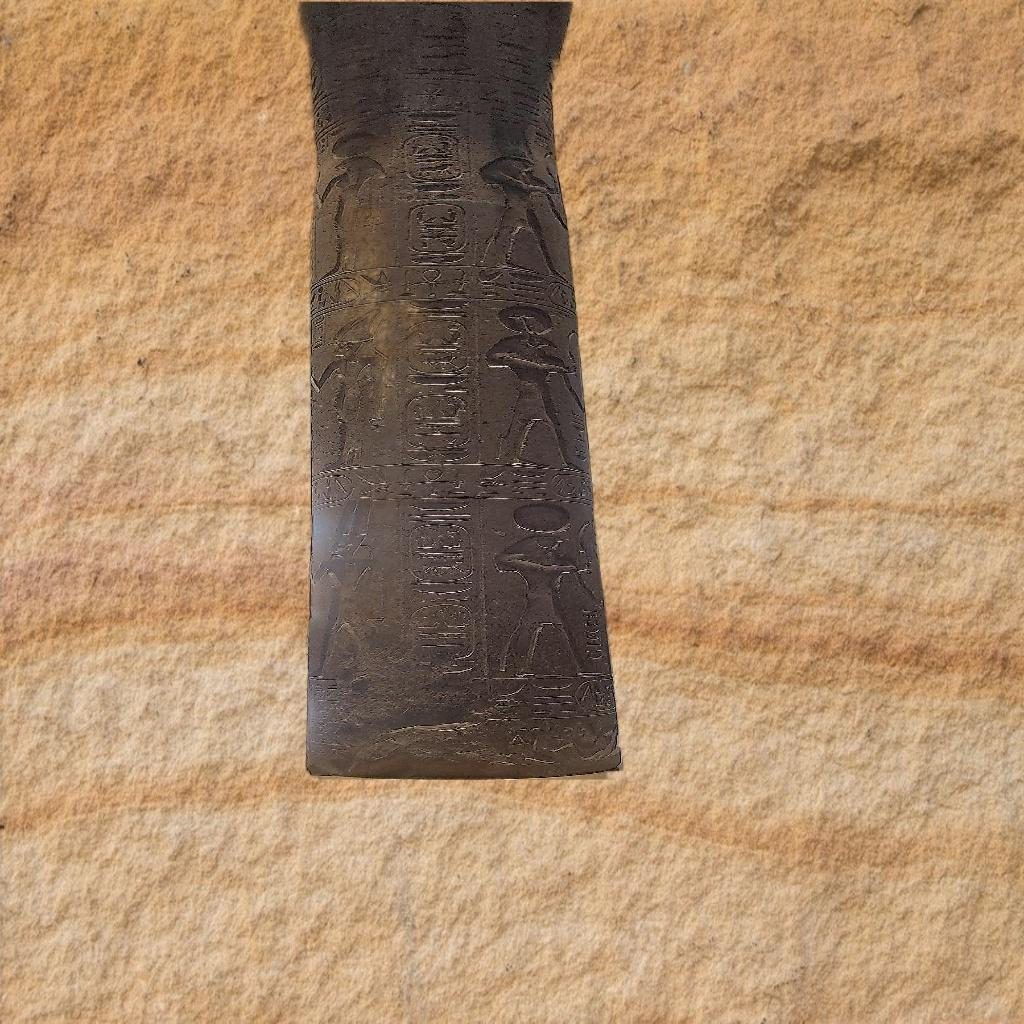Column of Merenptah: (285, 2, 625, 780)
